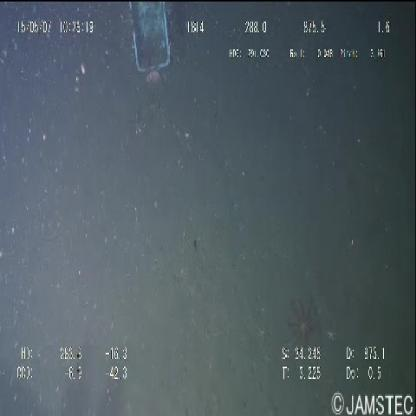Rác: (123, 1, 174, 84)
